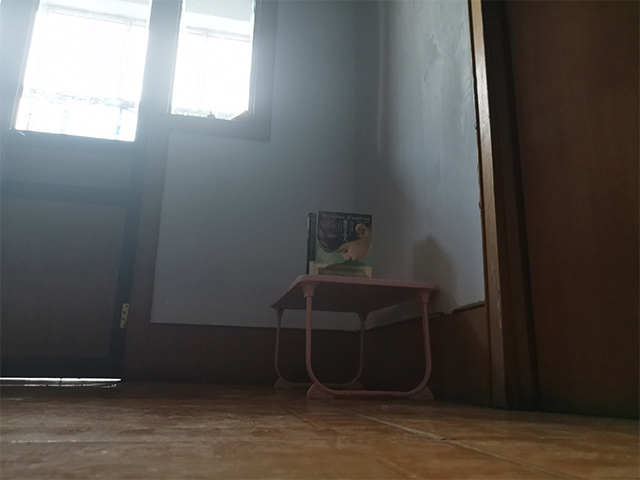stool: (267, 272, 446, 402)
